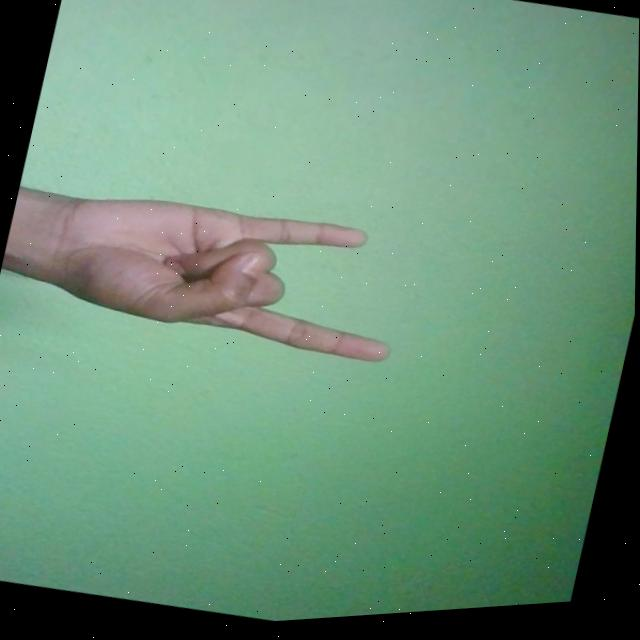Rock On: (30, 165, 418, 389)
